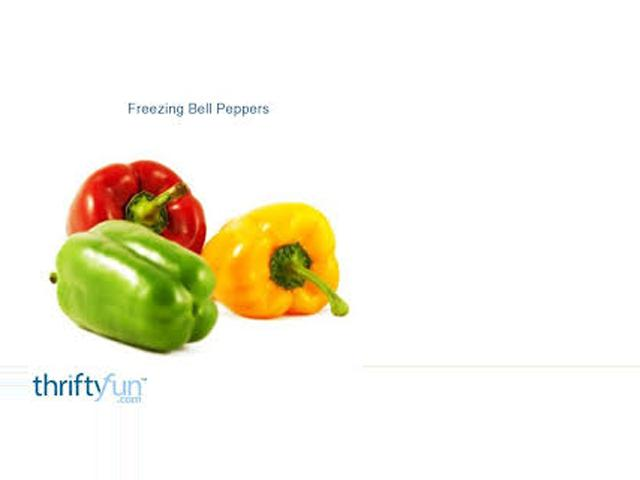bell_pepper: (45, 223, 229, 366)
